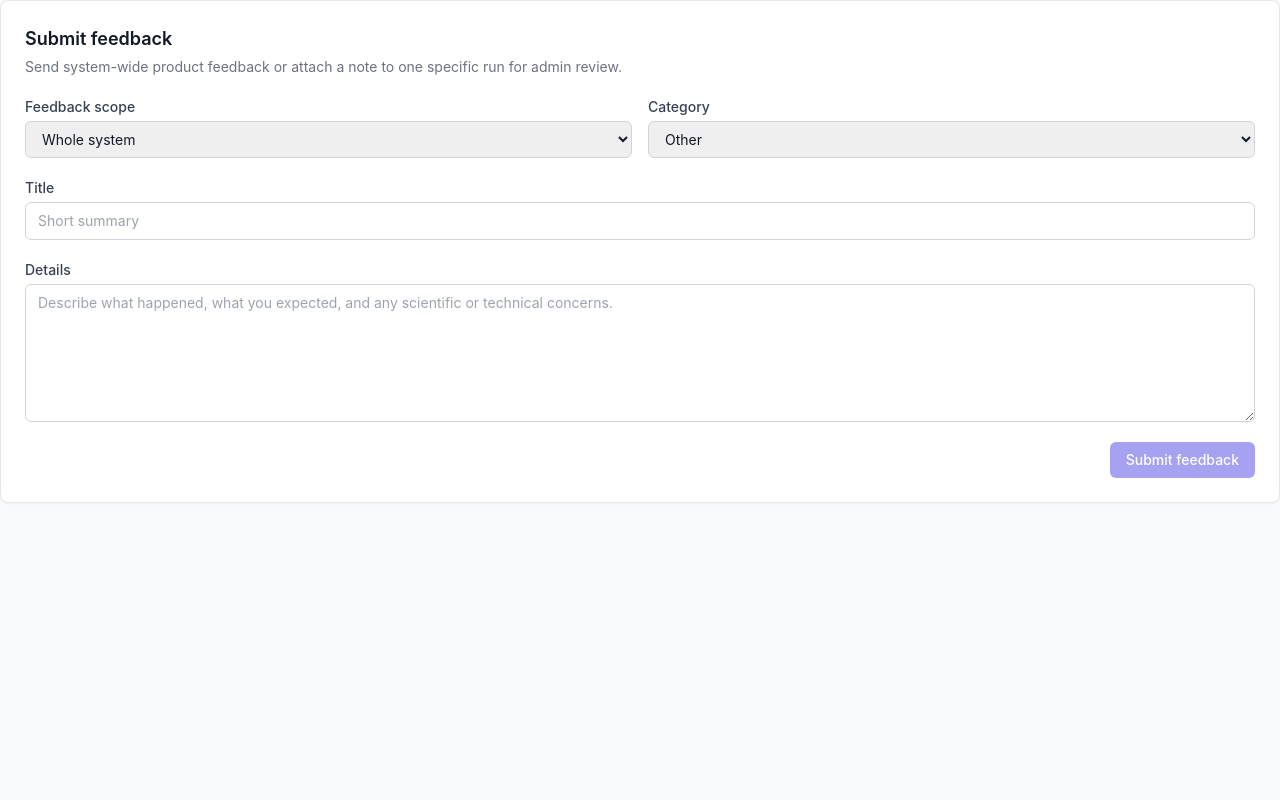
FeedbackForm › requires a run selection for run-scoped feedback
The image size is (1280, 800).
Select "Specific run" in the dropdown labelled "Feedback scope" at (328, 140), box [25,121,632,158]
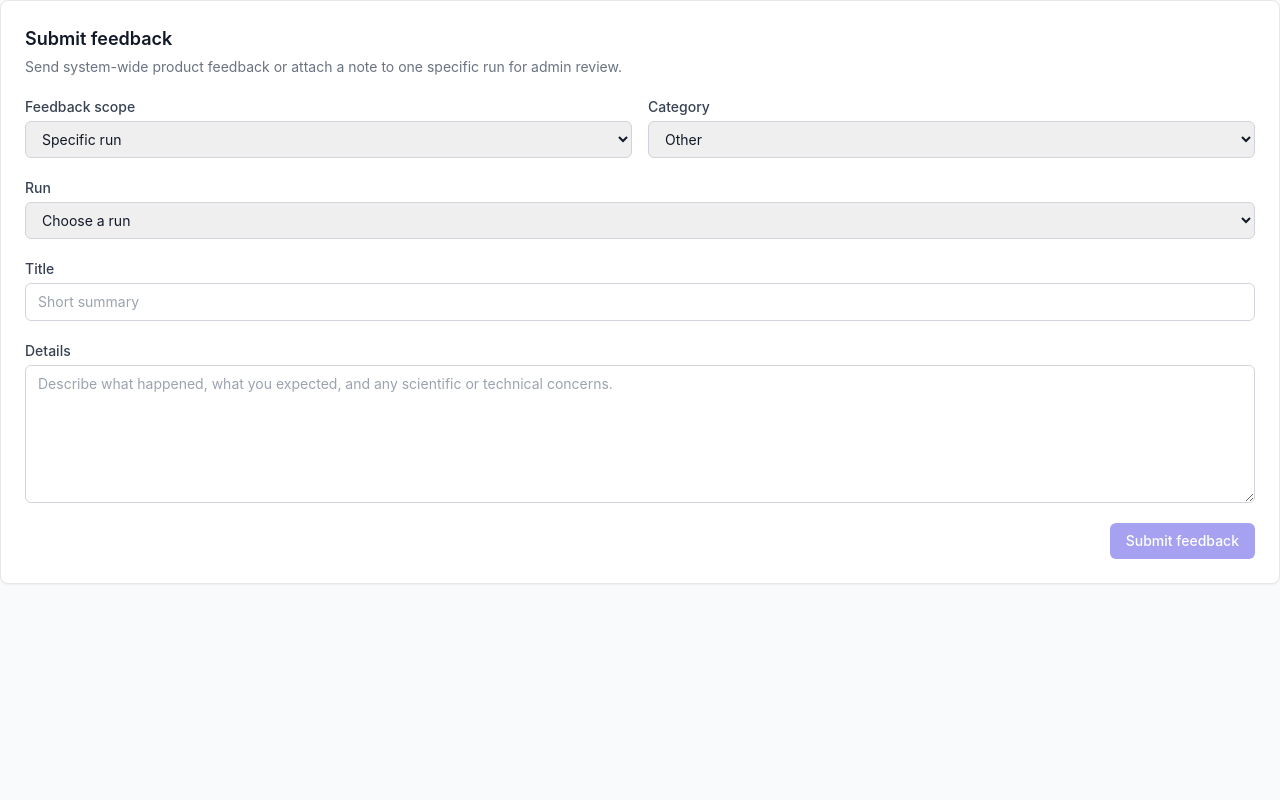
Replace the text in the text box labelled "Details" with "Needs review." at (640, 434), box [25,365,1255,503]
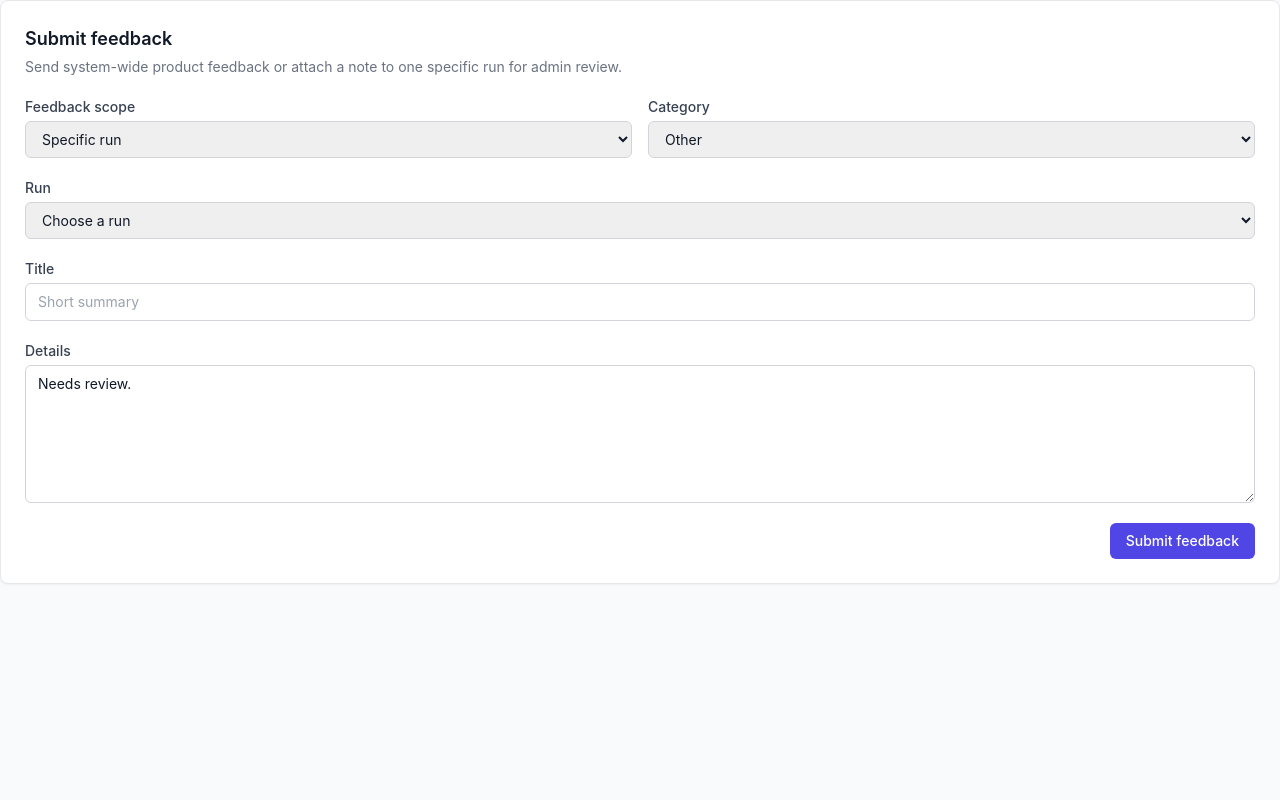
Submit the form from the button "Submit feedback", box [1110,523,1255,559]
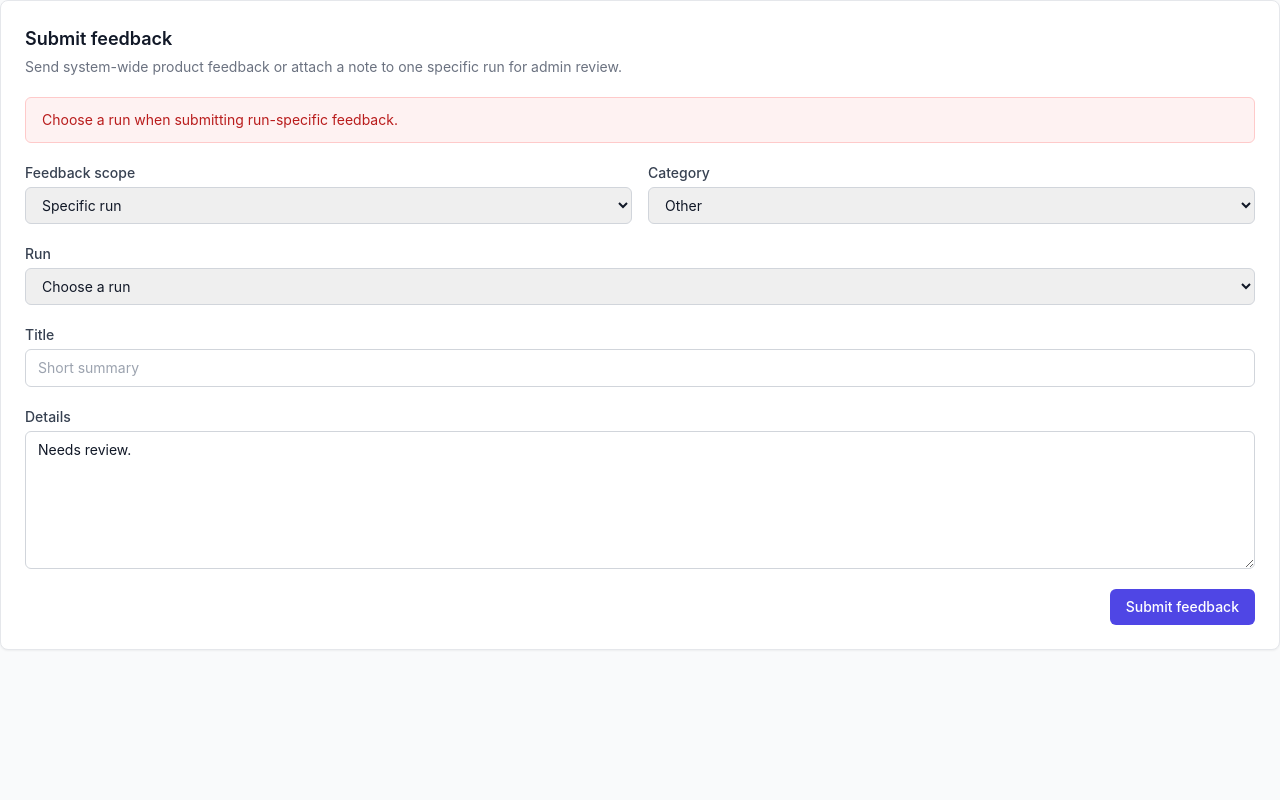
Now the message shows "Choose a run", box [42,111,398,128]
